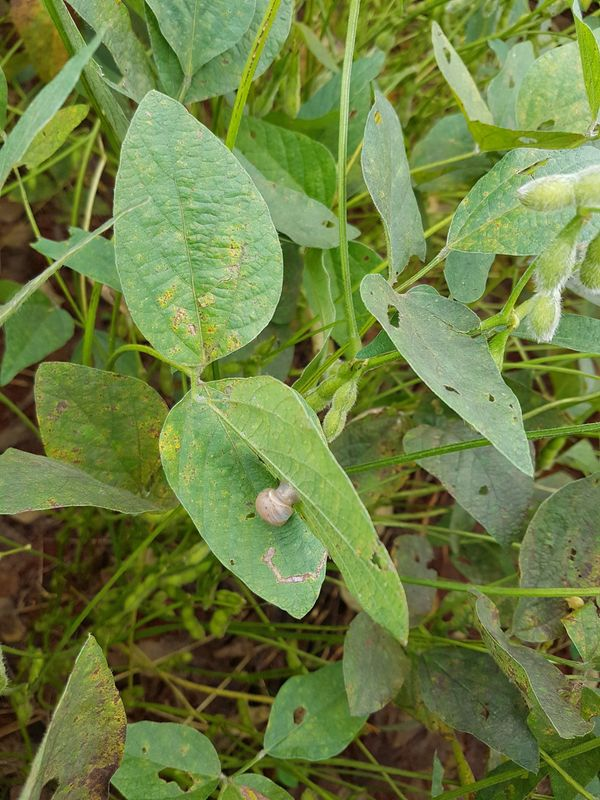Gastropoda: (246, 472, 305, 532)
